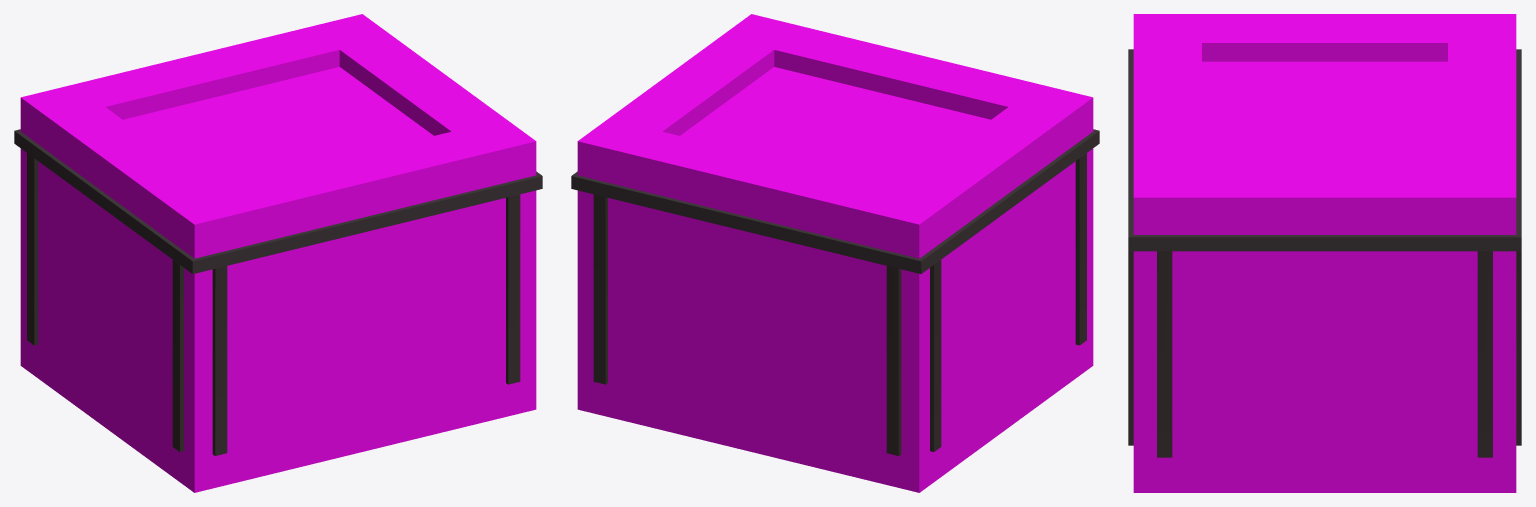
File: interior-kawabe-a.glb
3 renders of one model, left to right at view 1: azimuth 30°, elevation 25°; view 2: azimuth 150°, elevation 25°; view 3: azimuth 270°, elevation 25°, orthographic. The views are drawn at different scales.
Visible parts, largest first — view 1: Col_wall_front, Col_ceiling, Col_wall_left, Interior kawabe-a Plaster, Col_wall_back, Col_wall_right; view 2: Col_wall_back, Col_wall_left, Col_ceiling, Col_wall_right, Interior kawabe-a Plaster, Col_wall_front; view 3: Col_wall_right, Col_ceiling, Col_wall_front, Col_wall_back, Interior kawabe-a Plaster, Col_wall_left.
Boxes of the visible parts, box(x1,y1,x2,y2) form: Col_wall_front: box(163, 118, 536, 492); Col_ceiling: box(20, 67, 536, 309); Col_wall_left: box(20, 98, 248, 492); Interior kawabe-a Plaster: box(14, 129, 542, 455); Col_wall_back: box(20, 14, 392, 386); Col_wall_right: box(310, 14, 536, 411); Col_wall_back: box(577, 118, 950, 492); Col_wall_left: box(865, 101, 1093, 492); Col_ceiling: box(577, 67, 1093, 309); Col_wall_right: box(577, 14, 802, 422); Interior kawabe-a Plaster: box(571, 129, 1099, 455); Col_wall_front: box(721, 14, 1093, 377); Col_wall_right: box(1133, 168, 1516, 492); Col_ceiling: box(1133, 61, 1516, 291); Col_wall_front: box(1133, 14, 1201, 492); Col_wall_back: box(1448, 14, 1516, 492); Interior kawabe-a Plaster: box(1128, 49, 1521, 457); Col_wall_left: box(1133, 14, 1516, 61).
Size of the model in its own units: 8.6 by 6.3 by 7.6.
